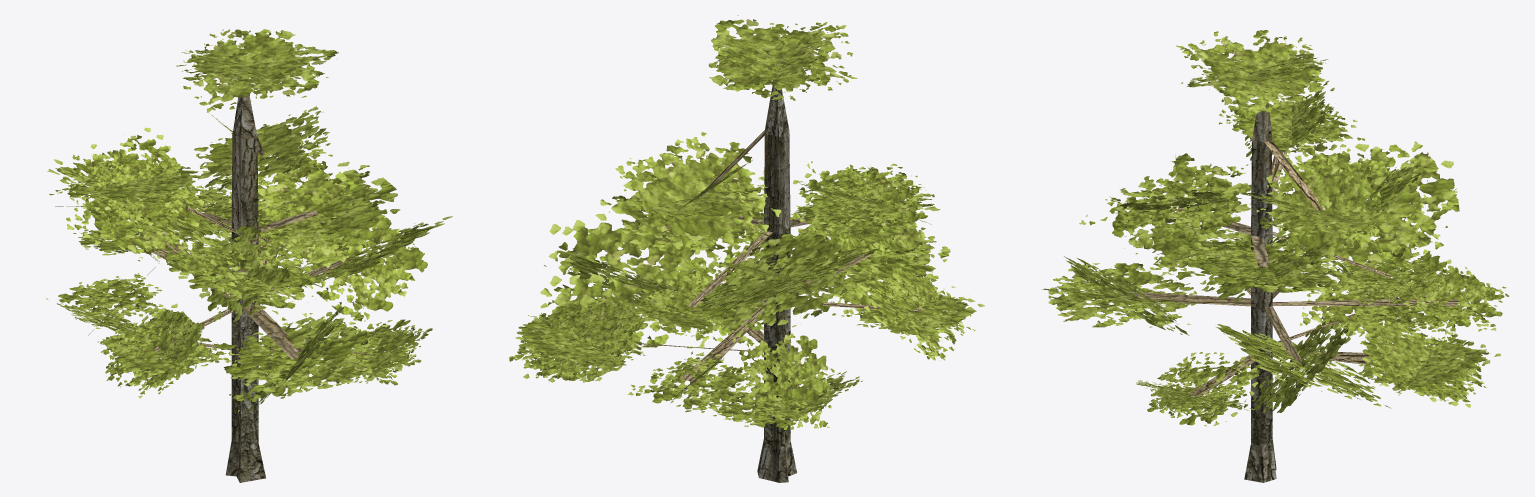
Rendered from arbre.obj.
3 views of the same model, side by side, from view 1: azimuth 30°, elevation 25°; view 2: azimuth 150°, elevation 25°; view 3: azimuth 270°, elevation 25° (orthographic).
Visible parts, largest first — view 1: Plane; view 2: Plane; view 3: Plane.
Part boxes in pixels (x1,y1,x2,y2): Plane: (46, 29, 452, 482); Plane: (509, 15, 984, 482); Plane: (1041, 30, 1509, 482).
Bounding box in the file's own units: 17.36 × 18.04 × 18.91.
